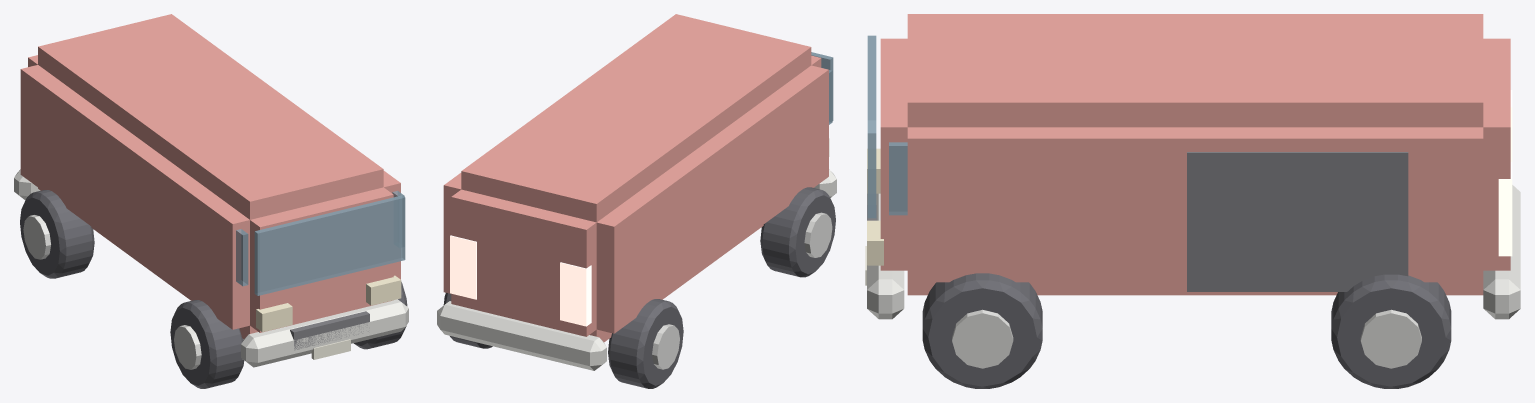
File: Vehicle_Van_A.fbx
The picture shows the model from 3 angles, left to right: view 1: azimuth 30°, elevation 25°; view 2: azimuth 150°, elevation 25°; view 3: azimuth 270°, elevation 25°; orthographic projection. The views are drawn at different scales.
Visible parts, largest first — view 1: Vehicle_Van_A; view 2: Vehicle_Van_A; view 3: Vehicle_Van_A.
Boxes of the visible parts, x1,y1,x2,y2 form: Vehicle_Van_A: (14, 14, 408, 388); Vehicle_Van_A: (437, 14, 836, 388); Vehicle_Van_A: (865, 14, 1520, 388).
Bounding box in the file's own units: 1.92 × 1.74 × 3.85.
